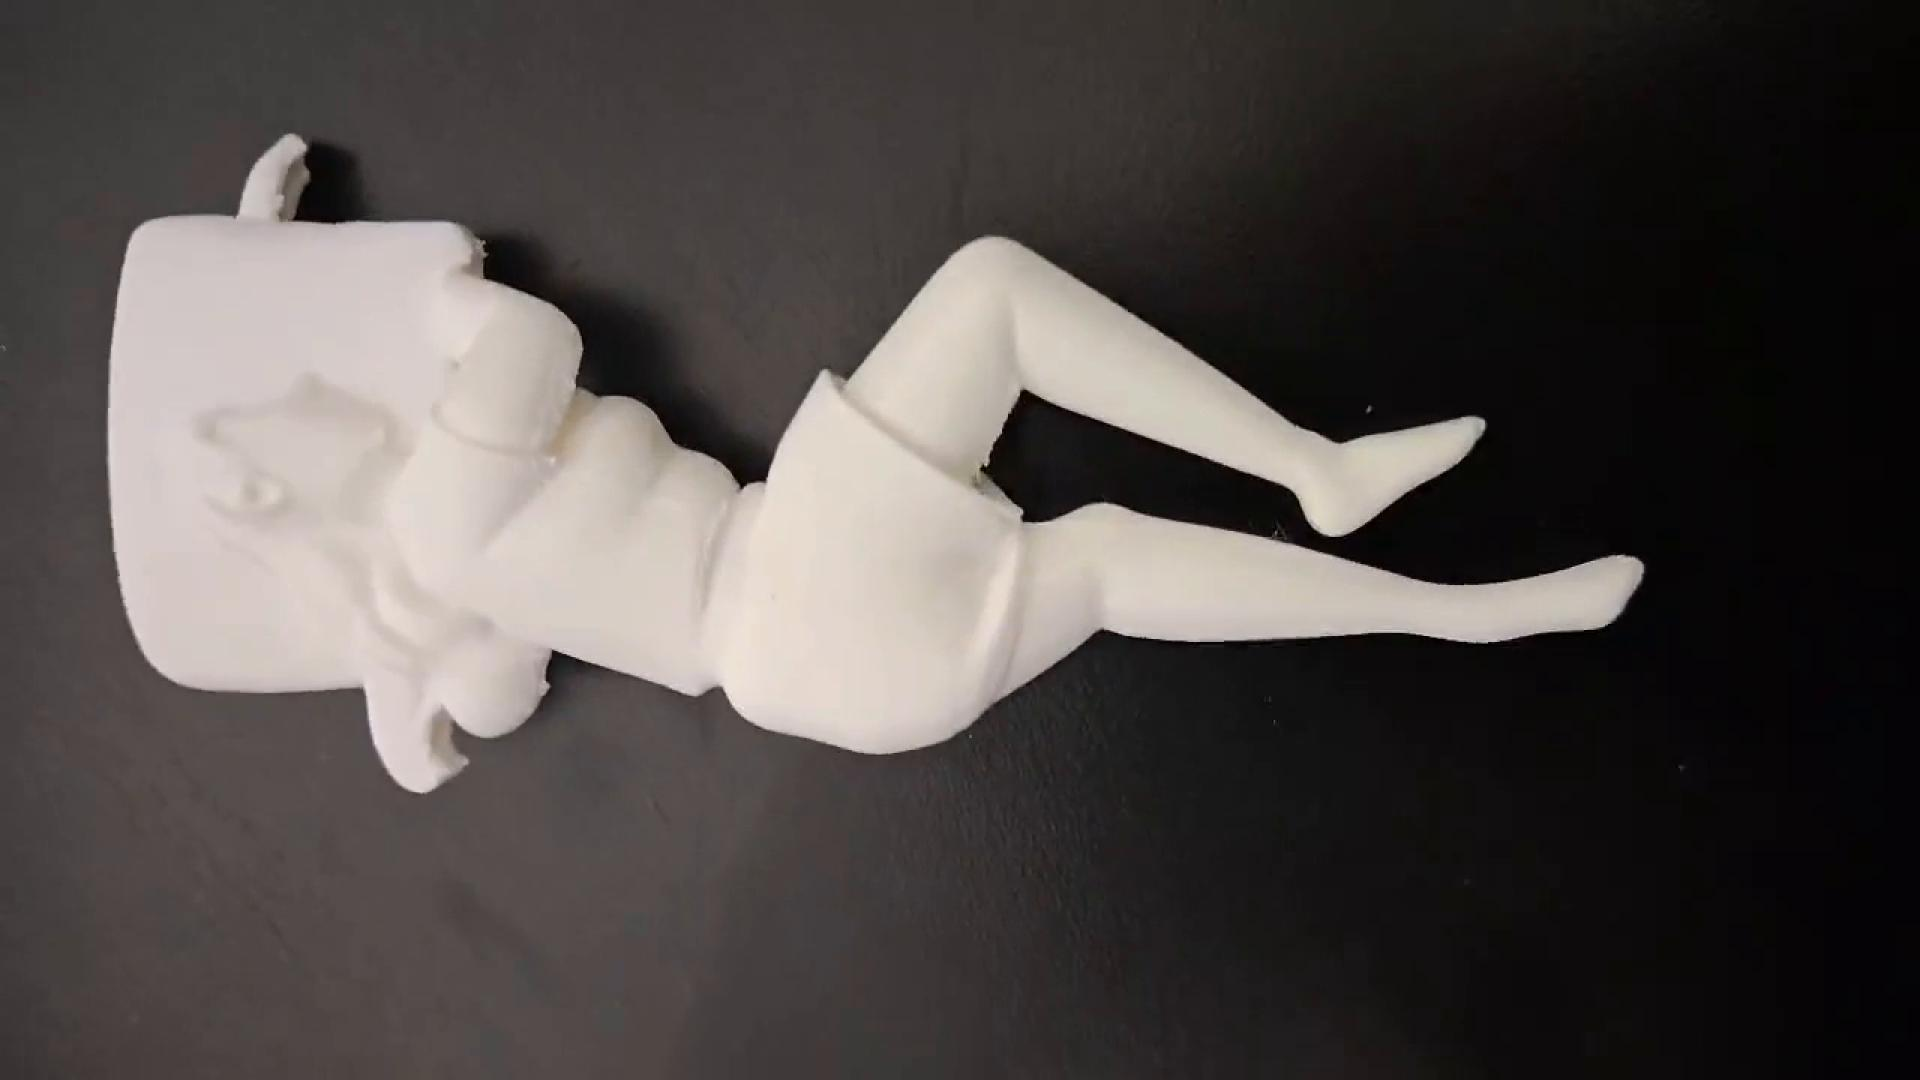Good-style: (119, 135, 1650, 796)
